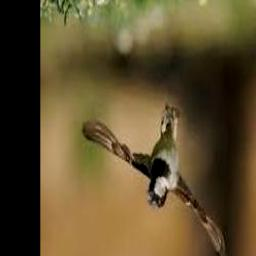Sparrow: (82, 105, 227, 256)
